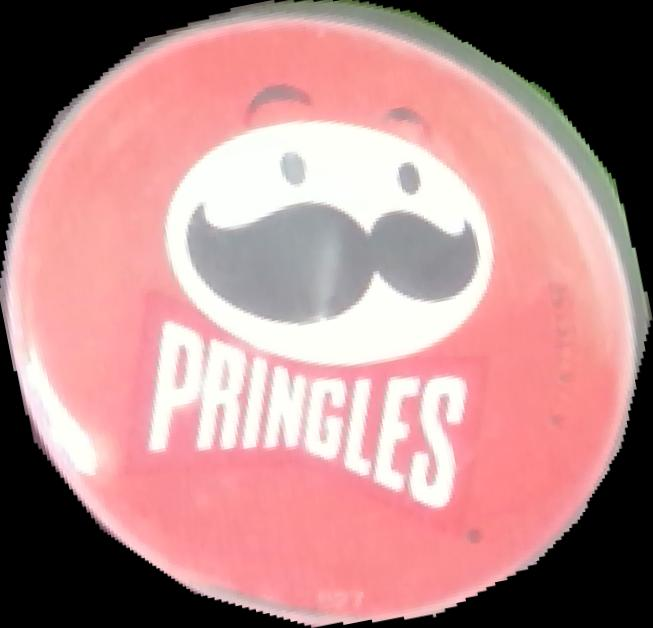head: (1, 1, 652, 627)
